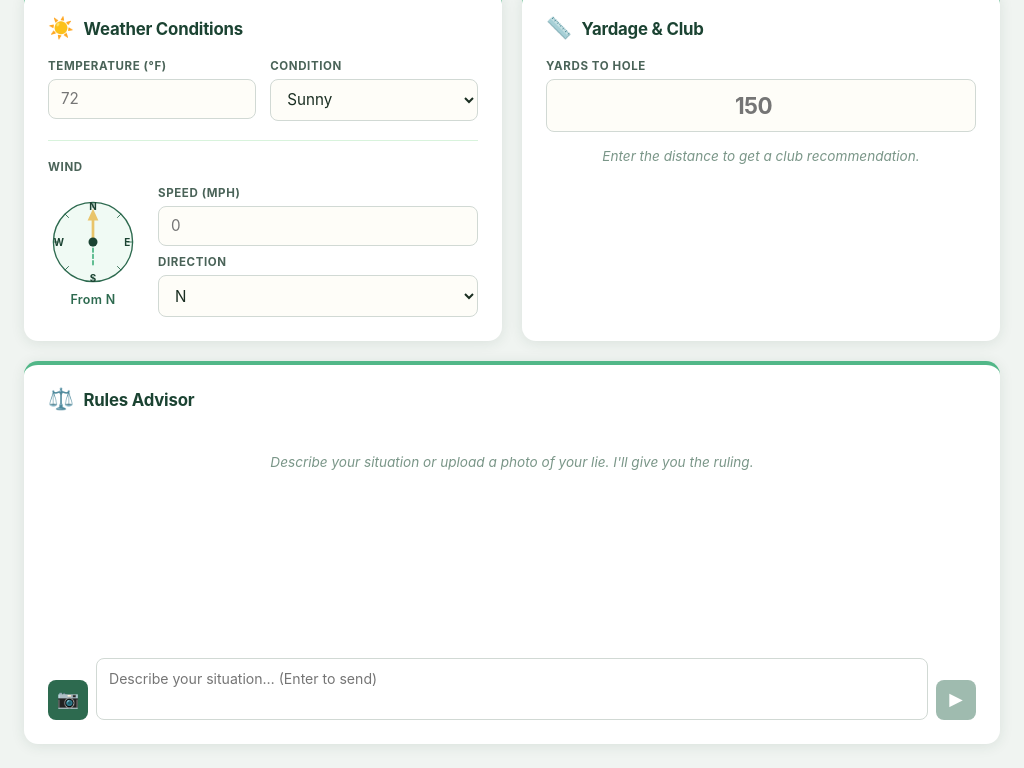
RulesChat › typing shows the user message when sent (fetch stubbed)
(page scrolled)
Type "Ball in penalty area" into the text box named "Rules question" at x=512, y=689, box 96,658 -> 928,720
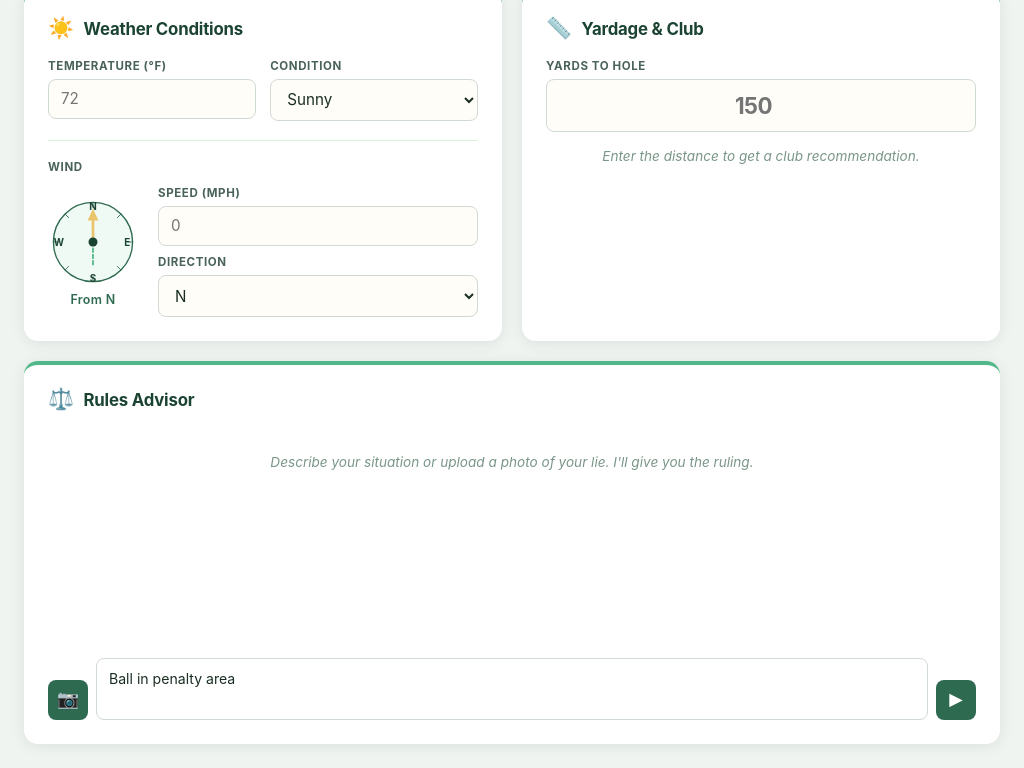
Click the button named "Send" at x=956, y=700, box 936,680 -> 976,720
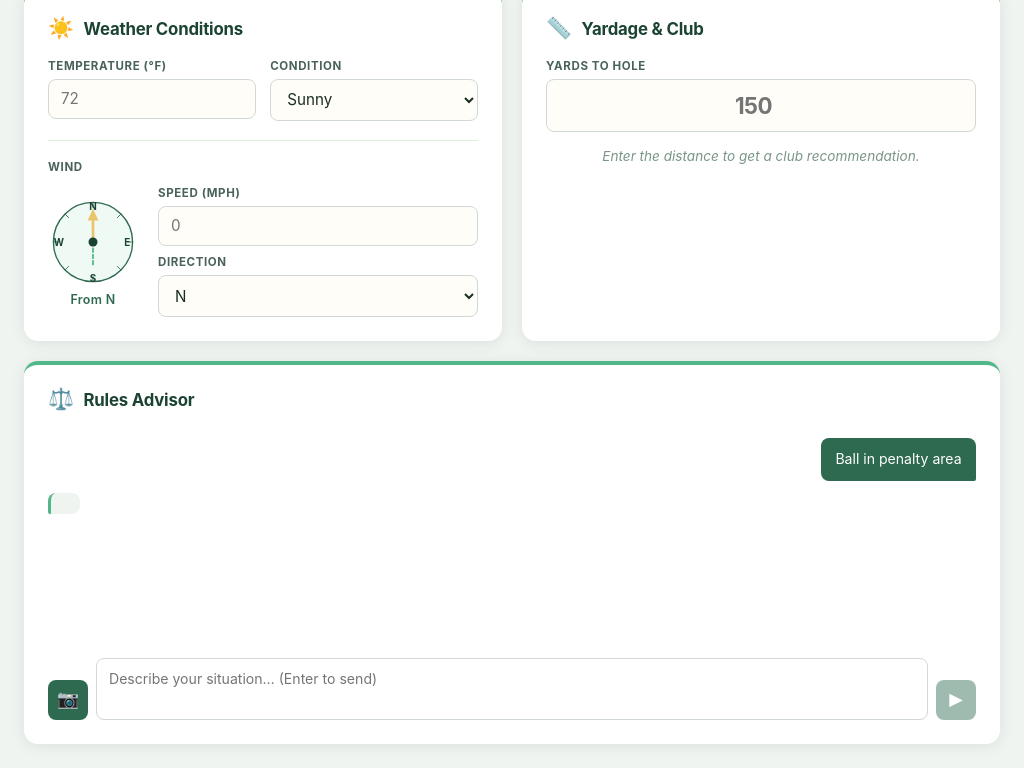
Check: the text "Ball in penalty area" is shown, box 835,448 -> 962,471
